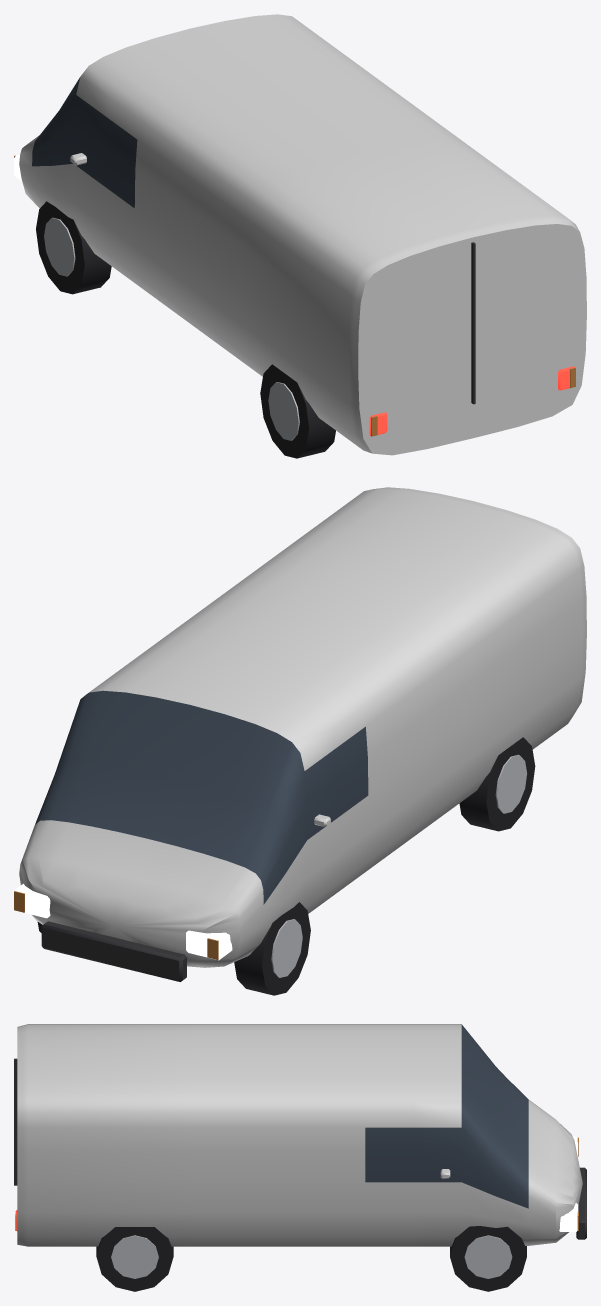
File: auto_freq_van_lod2.glb
3 renders of one model, top to bottom at view 1: azimuth 30°, elevation 25°; view 2: azimuth 150°, elevation 25°; view 3: azimuth 270°, elevation 25°, orthographic. The views are drawn at different scales.
Parts seen in each view (by area): view 1: Karosserie, Rad_HL, Rad_VL; view 2: Karosserie, Rad_VL, Rad_HL; view 3: Karosserie, Rad_VR, Rad_HR.
Part boxes in pixels (x1,y1,x2,y2): Karosserie: [14, 14, 586, 455]; Rad_HL: [260, 364, 335, 458]; Rad_VL: [36, 201, 111, 294]; Karosserie: [14, 487, 586, 981]; Rad_VL: [234, 902, 310, 995]; Rad_HL: [459, 737, 535, 831]; Karosserie: [14, 1024, 586, 1246]; Rad_VR: [450, 1226, 526, 1291]; Rad_HR: [96, 1227, 173, 1291].
Bounding box in the file's own units: 2.18 × 2.01 × 5.35.
